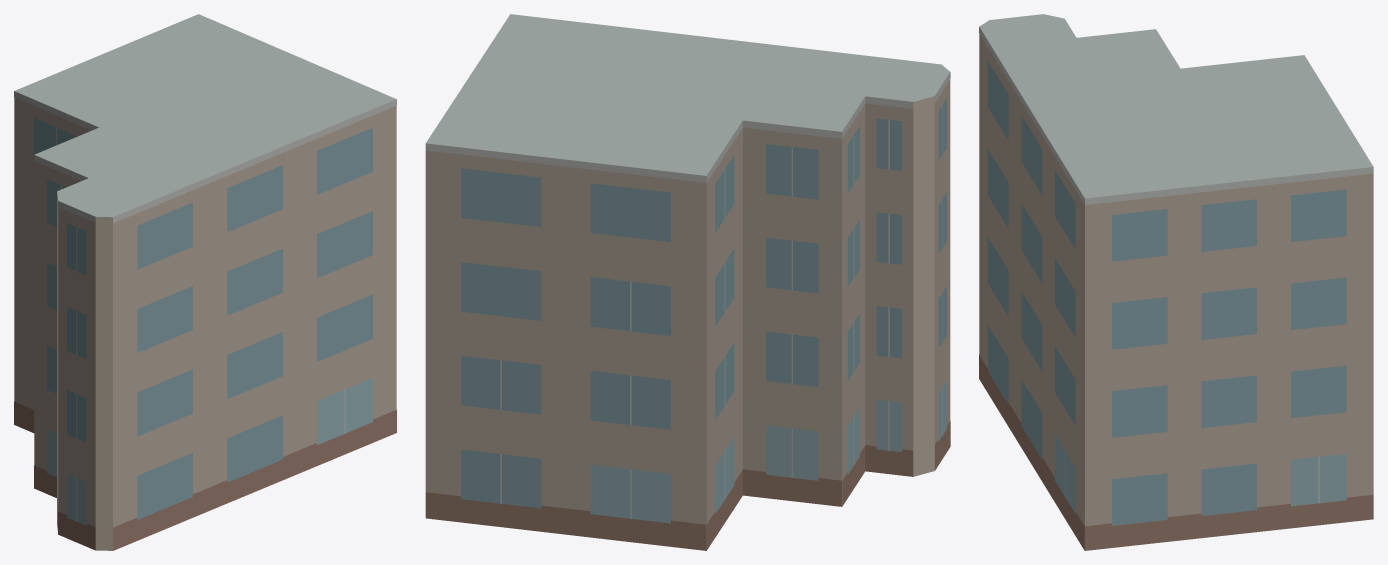
File: survey-upis-32616040.glb
3 views of the same model, side by side, from view 1: azimuth 30°, elevation 25°; view 2: azimuth 150°, elevation 25°; view 3: azimuth 270°, elevation 25° (orthographic). The views are drawn at different scales.
Parts seen in each view (by area): view 1: survey-upis-32616040.tmp; view 2: survey-upis-32616040.tmp; view 3: survey-upis-32616040.tmp.
Boxes of the visible parts, bbox=[...] form: survey-upis-32616040.tmp: bbox=[14, 14, 396, 550]; survey-upis-32616040.tmp: bbox=[425, 14, 950, 550]; survey-upis-32616040.tmp: bbox=[979, 14, 1373, 550].
Size of the model in its own units: 14.72 by 13.1 by 13.3.
